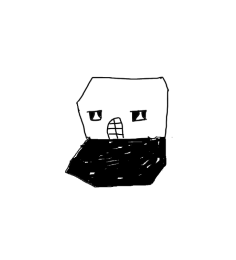door: (105, 114, 126, 142)
open_window: (127, 107, 152, 124), (86, 107, 106, 123)
shadow: (62, 134, 170, 192)
single_line_roof: (73, 71, 179, 106)
small_house: (2, 3, 236, 260)
wall: (75, 101, 170, 143)
